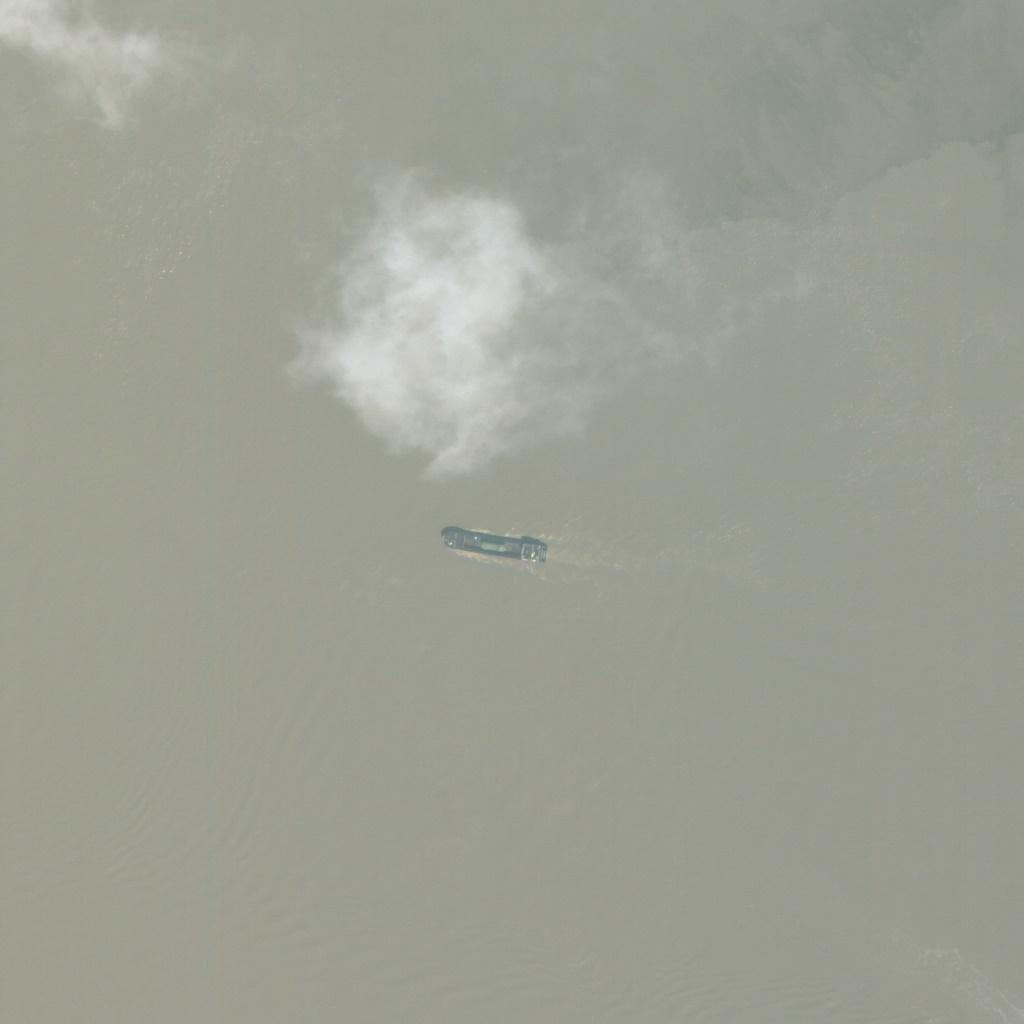ship: (436, 524, 554, 570)
